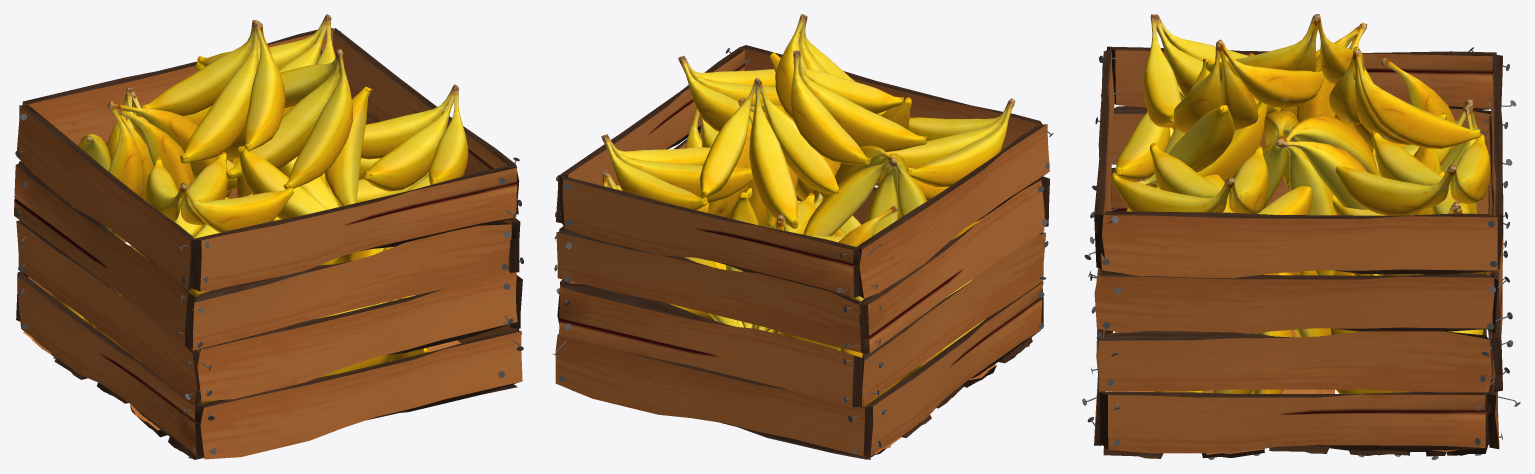
The model's file is BannanaCrate.glb.
3 views of the same model, side by side, from view 1: azimuth 30°, elevation 25°; view 2: azimuth 150°, elevation 25°; view 3: azimuth 270°, elevation 25° (orthographic). The views are drawn at different scales.
Visible parts, largest first — view 1: polySurface18; view 2: polySurface18; view 3: polySurface18.
Part boxes in pixels (<box>): polySurface18: <box>14,14,523,459</box>; polySurface18: <box>552,14,1053,459</box>; polySurface18: <box>1082,14,1520,459</box>.
Size of the model in its own units: 6.48 by 6.17 by 6.69.
Materials: 3 (2 with a texture image).
